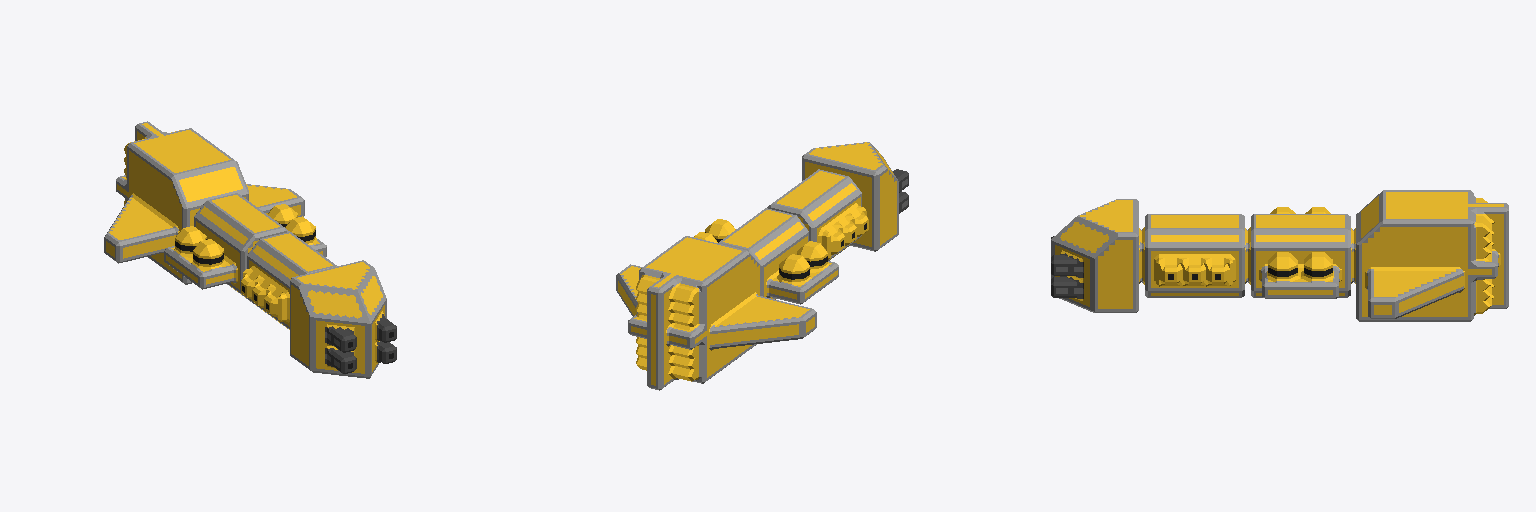
3 renders of one model, left to right at view 1: azimuth 30°, elevation 25°; view 2: azimuth 150°, elevation 25°; view 3: azimuth 270°, elevation 25°, orthographic.
Size of the model in its own units: 37 by 19 by 78.
1 materials, 1 textured.